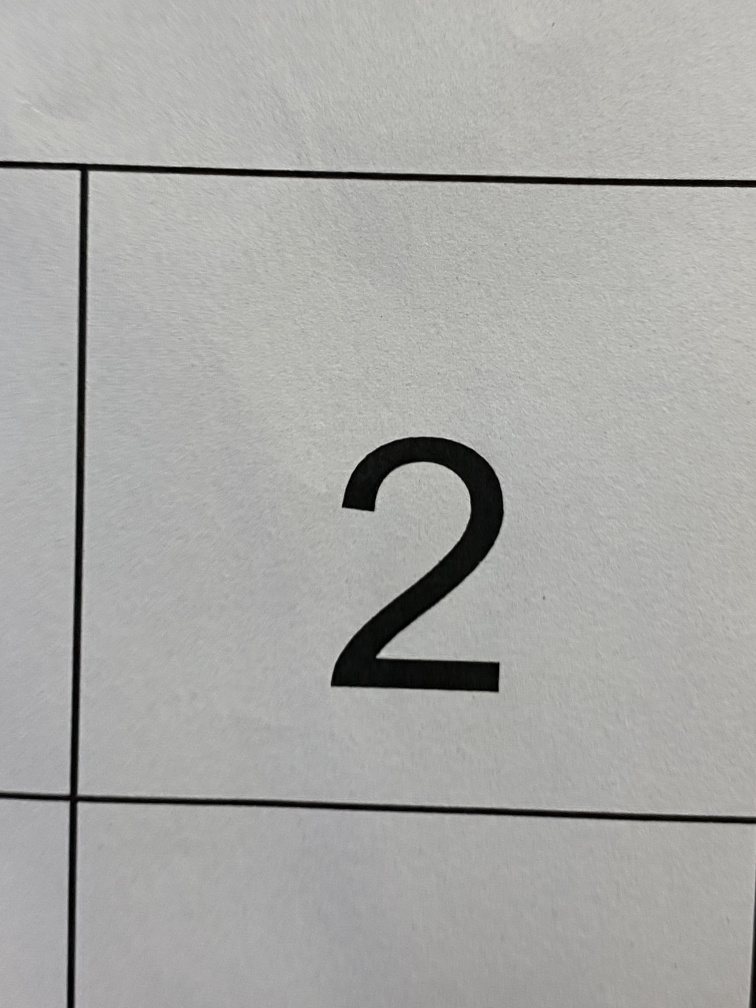two: (299, 403, 560, 764)
